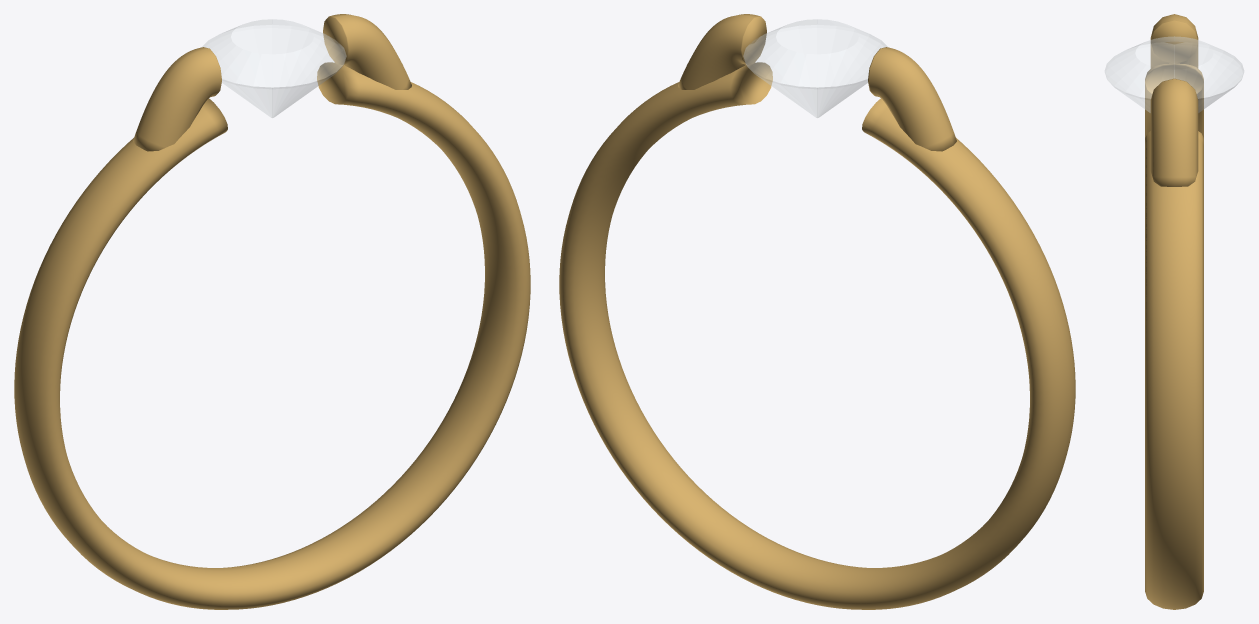
File: settings-tension-style.glb
3 views of the same model, side by side, from view 1: azimuth 30°, elevation 25°; view 2: azimuth 150°, elevation 25°; view 3: azimuth 270°, elevation 25° (orthographic). The views are drawn at different scales.
Parts seen in each view (by area): view 1: Band, Gem, Tension shoulder, Tension shoulder.001; view 2: Band, Gem, Tension shoulder, Tension shoulder.001; view 3: Band, Gem, Tension shoulder.001, Tension shoulder.
Boxes of the visible parts, x1,y1,x2,y2 form: Band: [14, 62, 530, 609]; Gem: [202, 19, 346, 117]; Tension shoulder: [133, 47, 221, 151]; Tension shoulder.001: [323, 14, 411, 89]; Band: [559, 62, 1075, 609]; Gem: [743, 19, 887, 117]; Tension shoulder: [868, 47, 956, 151]; Tension shoulder.001: [678, 14, 766, 89]; Band: [1145, 63, 1203, 609]; Gem: [1105, 36, 1243, 112]; Tension shoulder.001: [1150, 78, 1198, 186]; Tension shoulder: [1150, 14, 1198, 68].
Size of the model in its own units: 19.6 by 21.05 by 5.
